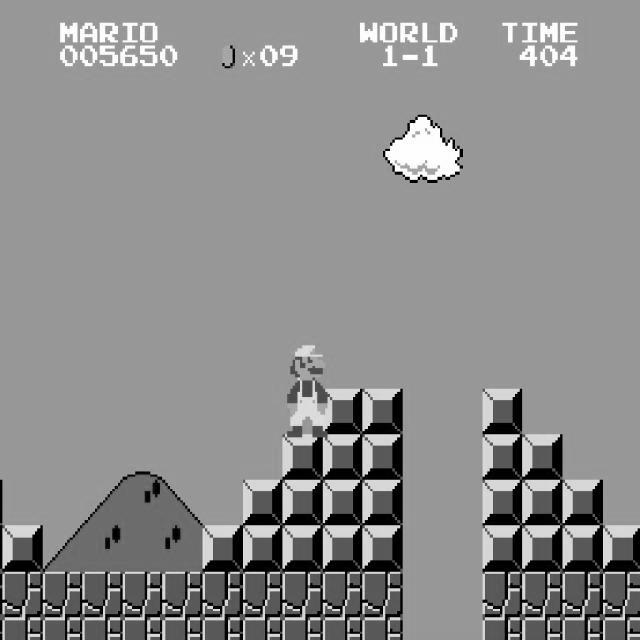17- undestructible_block: (2, 572, 43, 618), (42, 572, 83, 618), (82, 572, 123, 618), (122, 572, 163, 618), (162, 572, 203, 618), (202, 572, 243, 618), (242, 572, 283, 618), (282, 572, 323, 618), (322, 572, 363, 618), (362, 572, 403, 618), (482, 572, 523, 618), (522, 572, 563, 618), (562, 572, 603, 618), (603, 572, 640, 618), (2, 617, 43, 640), (42, 617, 83, 640), (82, 617, 123, 640), (122, 617, 163, 640), (162, 617, 203, 640), (202, 617, 243, 640), (242, 617, 283, 640), (282, 617, 323, 640), (322, 617, 363, 640), (362, 617, 403, 640), (482, 617, 523, 640), (522, 617, 563, 640), (562, 617, 603, 640), (603, 617, 640, 640), (0, 571, 2, 617), (0, 617, 2, 639)
4- fire_mario: (284, 343, 328, 437)
9- hard_block: (2, 526, 43, 572), (202, 526, 243, 572), (242, 480, 283, 526), (242, 526, 283, 572), (282, 434, 323, 480), (282, 480, 323, 526), (282, 526, 323, 572), (322, 388, 363, 434), (322, 434, 363, 480), (322, 480, 363, 526), (322, 526, 363, 572), (362, 388, 403, 434), (362, 434, 403, 480), (362, 480, 403, 526), (362, 526, 403, 572), (482, 388, 523, 434), (482, 434, 523, 480), (482, 480, 523, 526), (482, 526, 523, 572), (522, 434, 563, 480), (522, 480, 563, 526), (522, 526, 563, 572), (562, 480, 603, 526), (562, 526, 603, 572), (603, 526, 640, 572), (0, 525, 2, 571), (0, 480, 2, 525)
